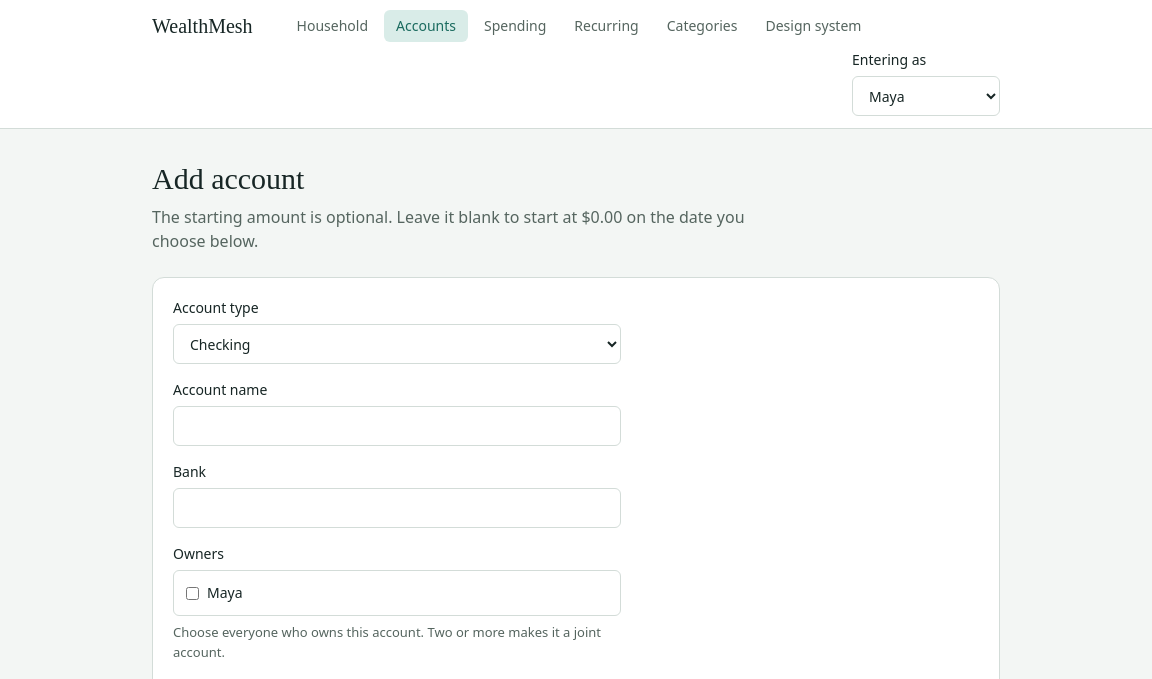
words of the thing shown › V2_PROPERTY_002 a blank property review says the value was left blank
Select "Property" in the dropdown labelled "Account type" at (397, 344), box [173,324,621,364]
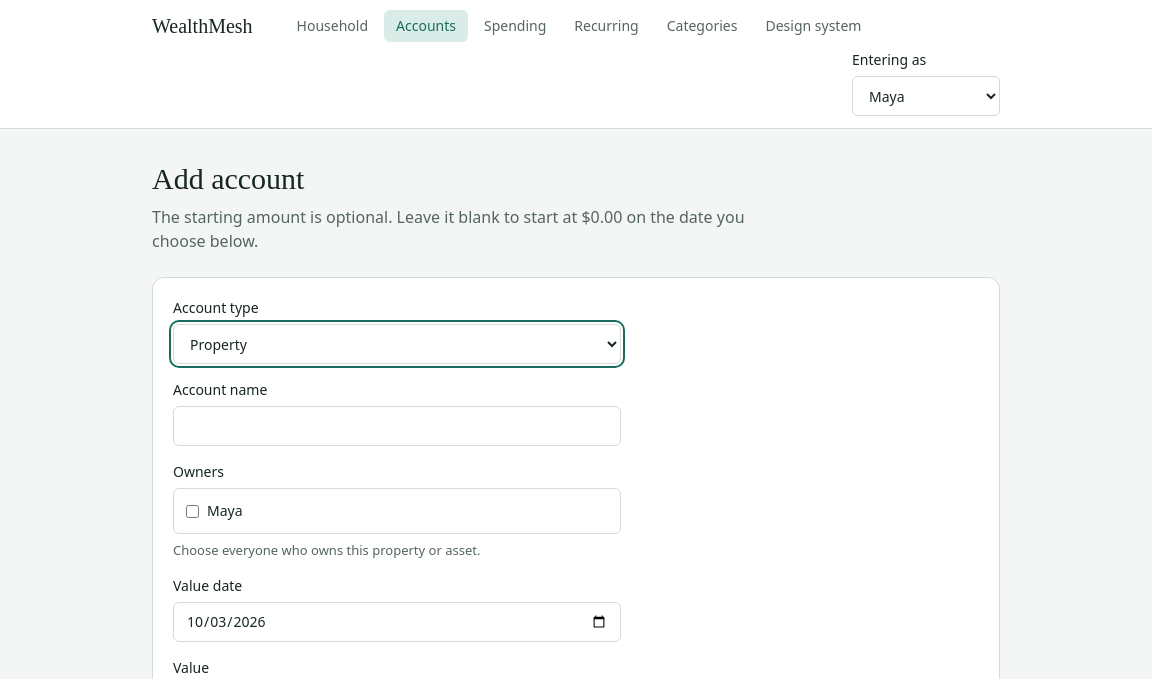
Type "Land" into the field labelled "Account name" at (397, 426), box [173,406,621,446]
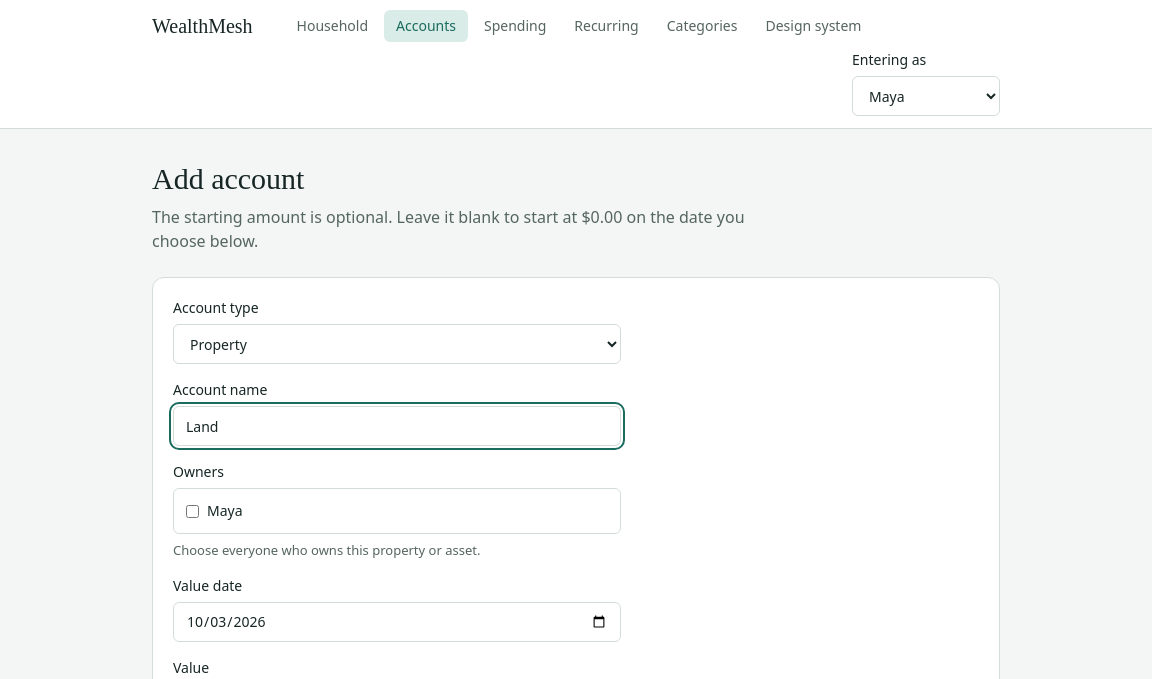
Click the checkbox labelled "Maya" at (192, 511), box [186,504,199,518]
(page scrolled)
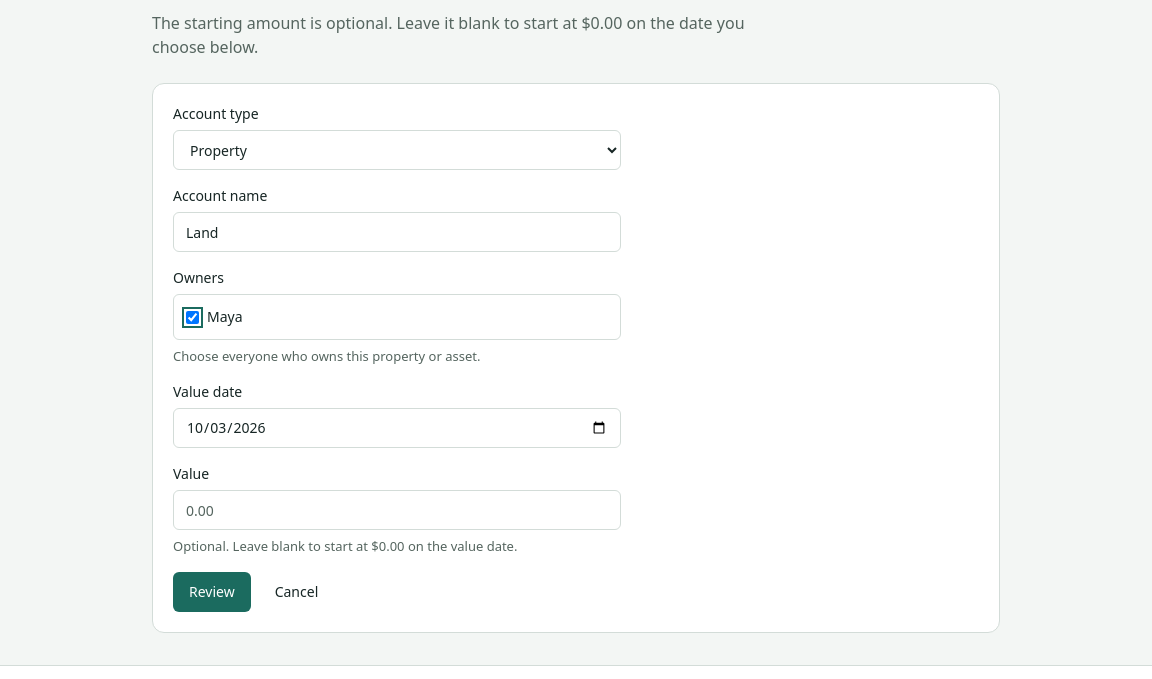
Click the button "Review" at (212, 592), box [173,572,251,612]
(page scrolled)
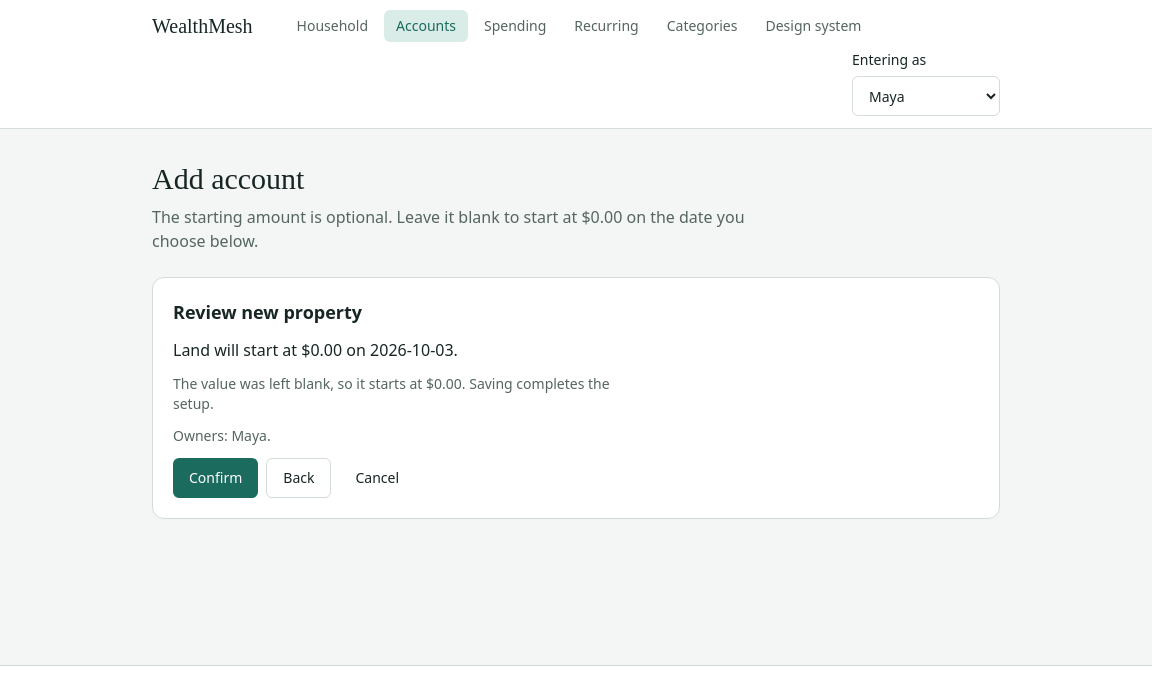
Now the element "Review new property" shows "The value was left blank", box [173,374,610,413]
Now the element "Review new property" no longer shows "Balance", box [173,298,621,498]
